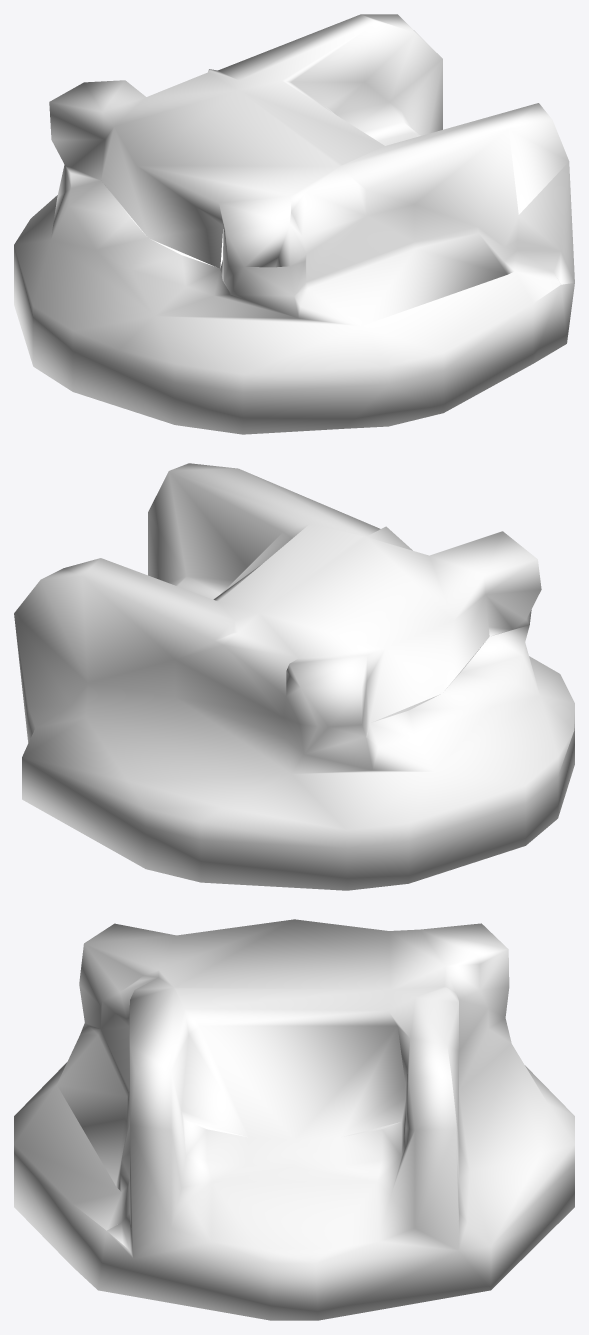
The model's file is torsoyaw.dae.
3 views of the same model, one above another, from view 1: azimuth 30°, elevation 25°; view 2: azimuth 150°, elevation 25°; view 3: azimuth 270°, elevation 25° (orthographic). The views are drawn at different scales.
Parts seen in each view (by area): view 1: Torso_Yaw; view 2: Torso_Yaw; view 3: Torso_Yaw.
Boxes of the visible parts, left/top/right/bottom form: Torso_Yaw: left=14, top=14, right=574, bottom=434; Torso_Yaw: left=14, top=463, right=574, bottom=890; Torso_Yaw: left=14, top=919, right=574, bottom=1320.
Bounding box in the file's own units: 0.1262 × 0.1213 × 0.0553.
Materials: 1 (1 with a texture image).
